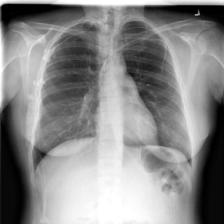normal: (30, 10, 196, 178)
